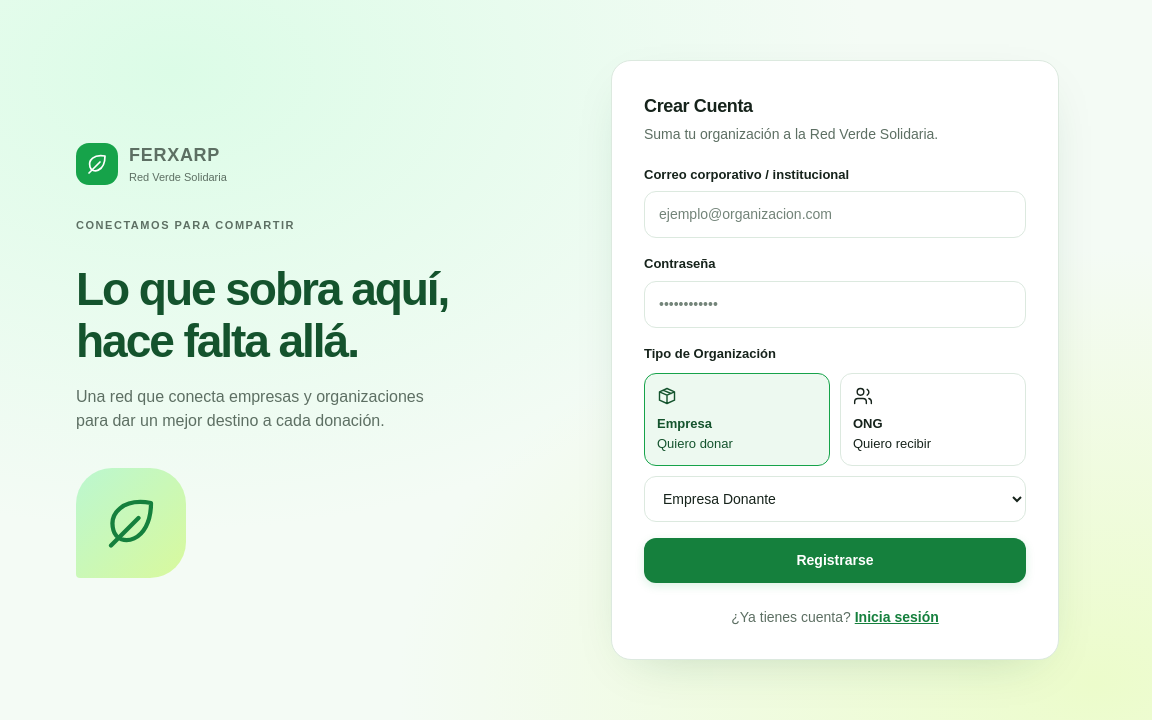
Scenario: registro fallido muestra error y evita login posterior
Step 1. Type "x@test.mx" into the field labelled "Correo corporativo / institucional" → [835, 215], box [644,191,1026,238]
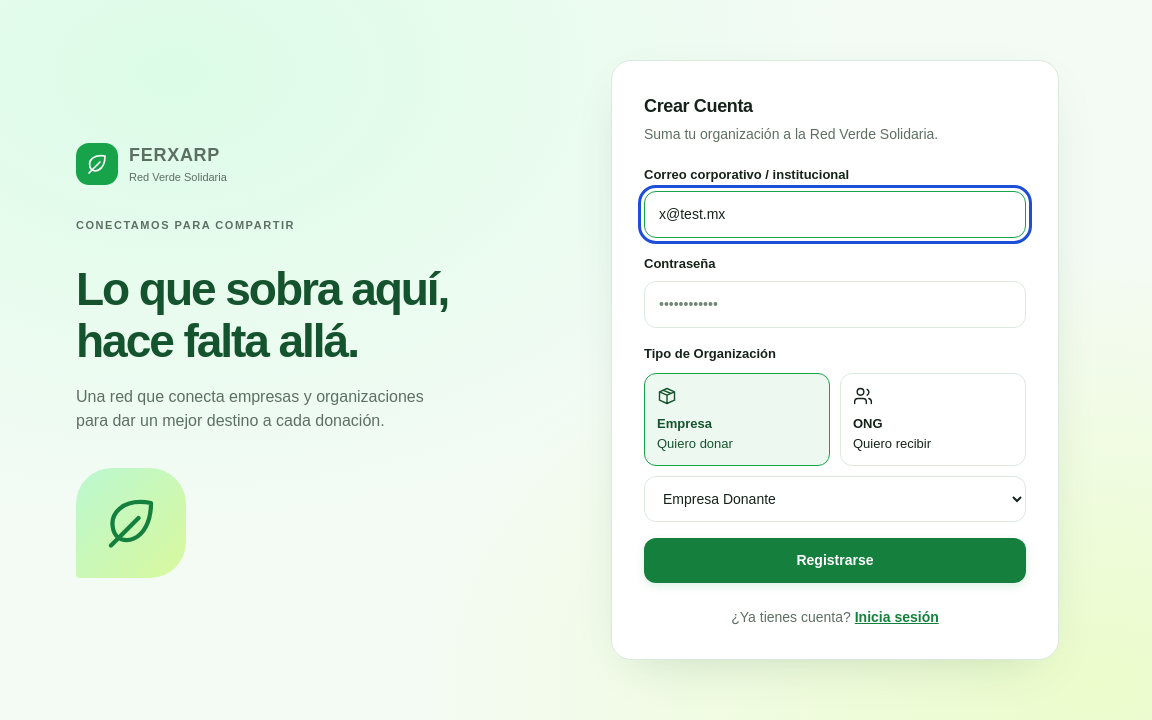
Step 2. Type "clave123" into the password field labelled "Contraseña" → [835, 304], box [644,281,1026,328]
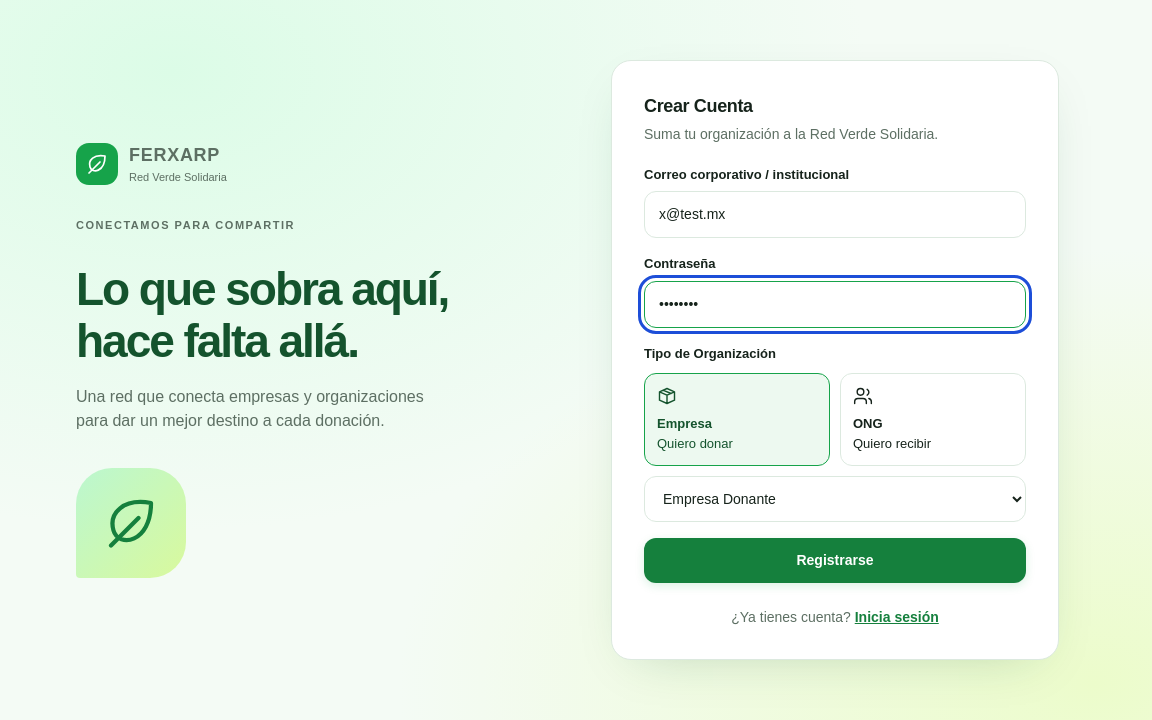
Step 3. Click the button "Registrarse" → [835, 561], box [644,538,1026,583]
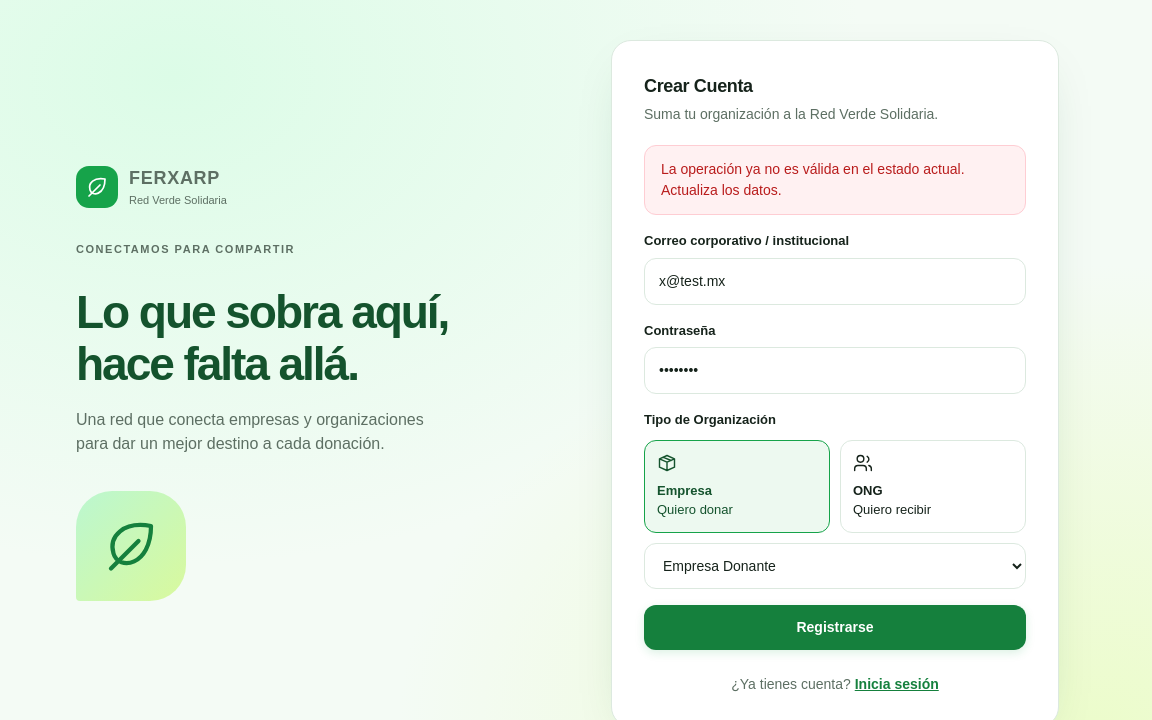
Check: the text "La operación ya no es válida en el estado actual. Actualiza los datos." is shown, box [644,145,1026,215]
